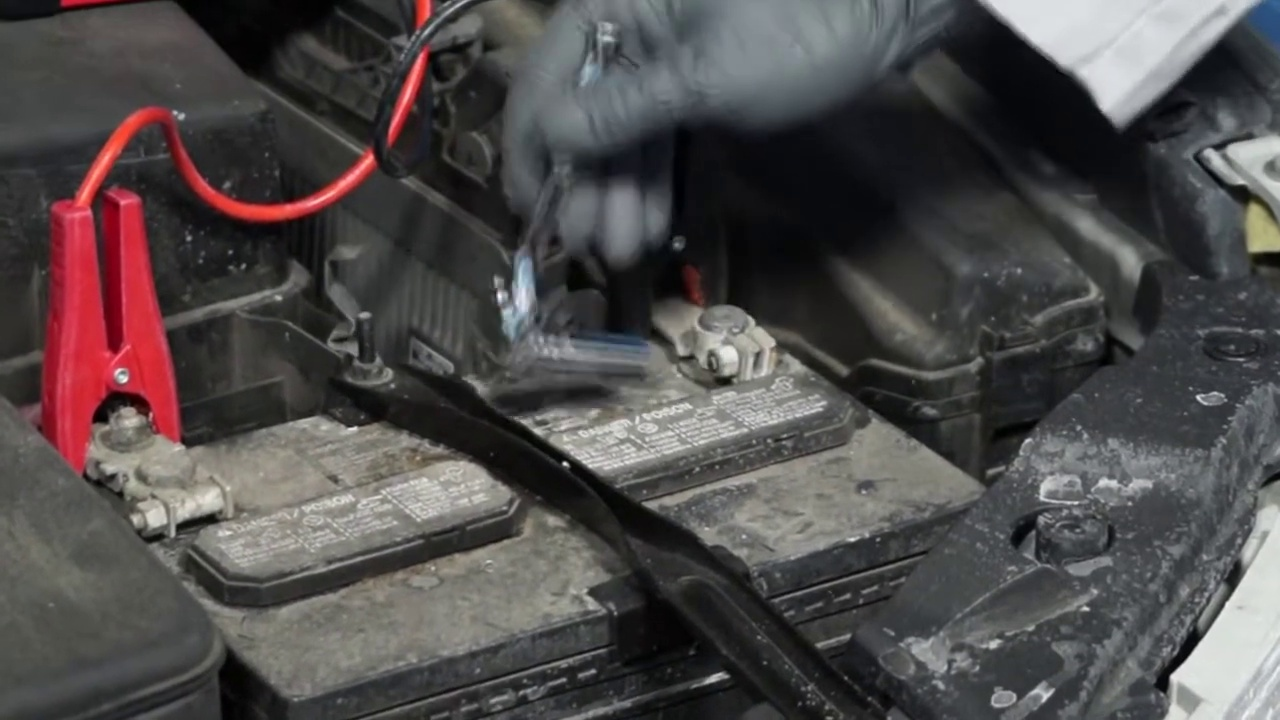battery: (93, 300, 968, 564)
neg_connected: (640, 246, 786, 411)
pos_connected: (48, 296, 240, 523)
